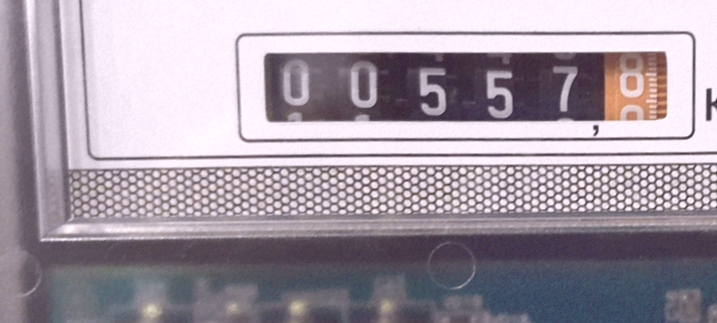0: (277, 54, 313, 111), (345, 58, 380, 111)
5: (480, 63, 519, 123), (414, 63, 450, 120)
7: (546, 61, 580, 117)
8: (616, 51, 646, 102)
screen: (230, 13, 702, 158)
